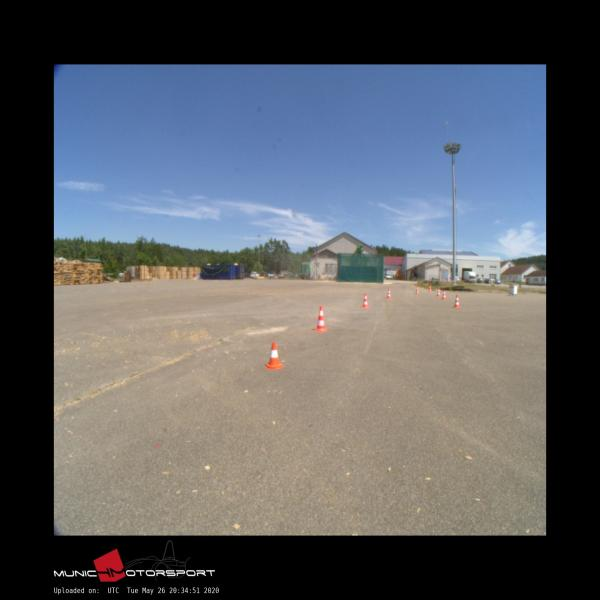large_orange_cone: (316, 305, 326, 331), (361, 293, 368, 308), (454, 294, 460, 307), (386, 288, 391, 298), (442, 289, 446, 299), (436, 288, 440, 296), (428, 285, 432, 292), (416, 286, 419, 294)
orange_cone: (266, 342, 282, 368)
